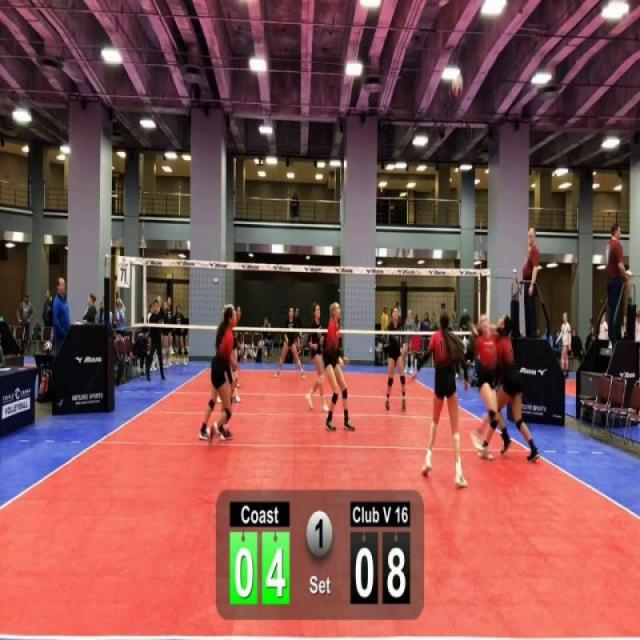volleyball: (448, 80, 462, 102)
